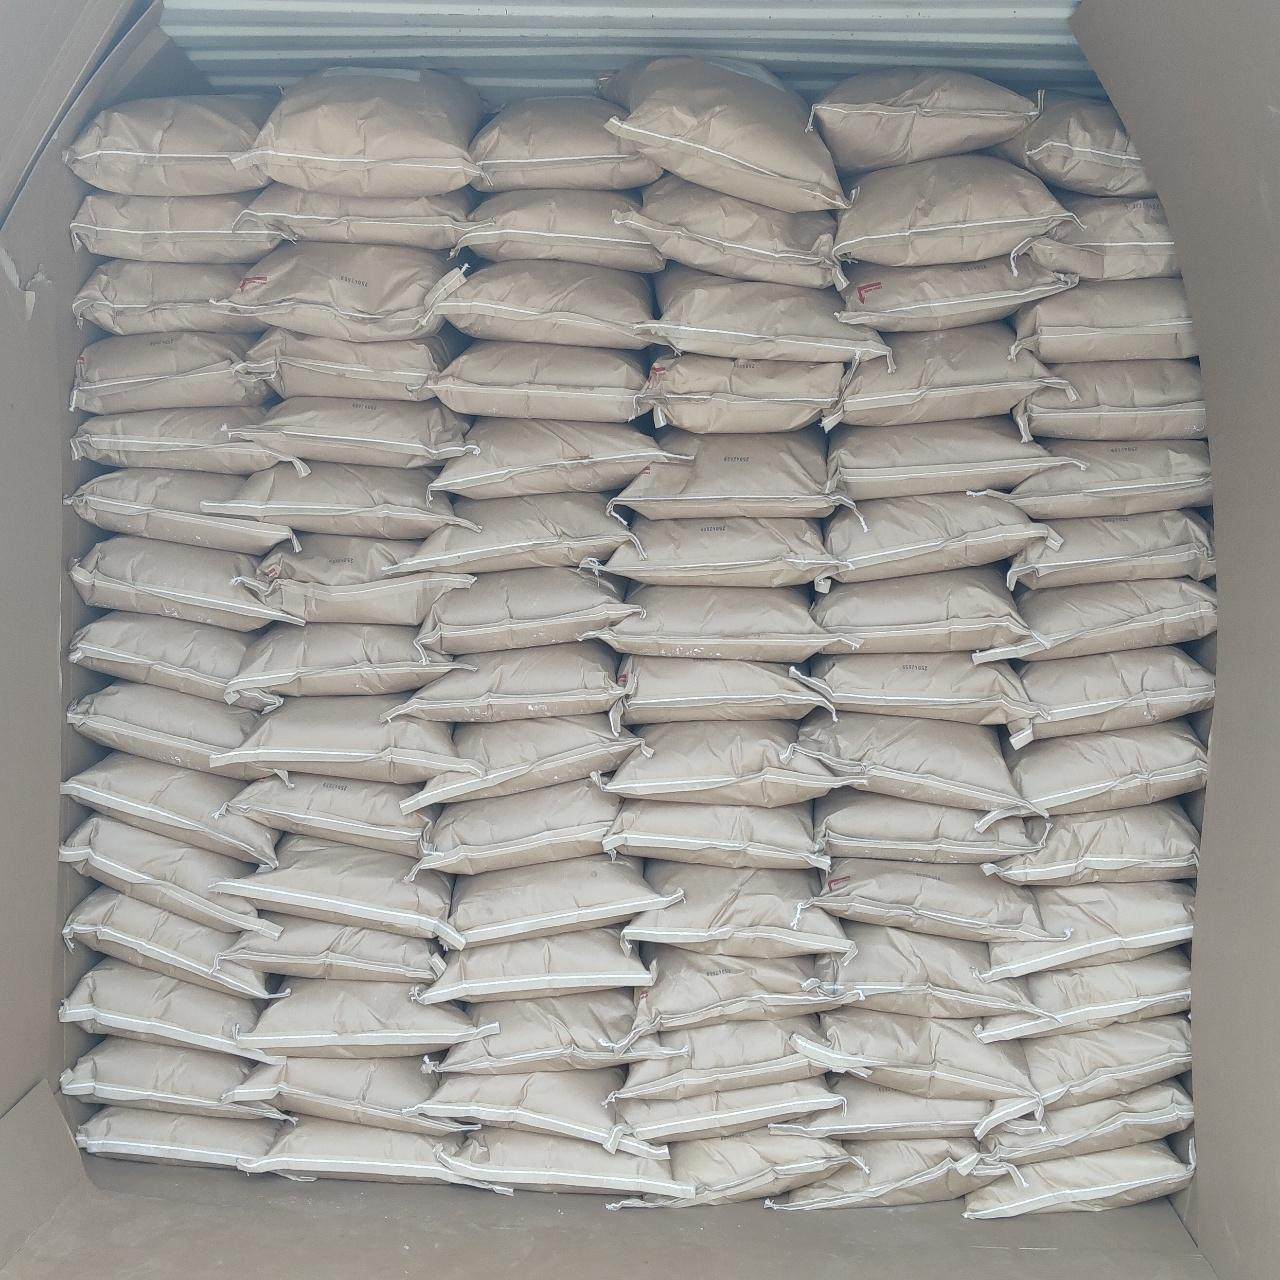sack: (602, 57, 846, 206), (234, 68, 488, 195), (62, 813, 278, 934), (787, 712, 1036, 813), (62, 753, 278, 869), (835, 156, 1068, 263), (618, 176, 842, 286), (642, 266, 890, 365), (64, 886, 282, 998), (220, 836, 456, 938), (230, 241, 467, 342), (60, 958, 280, 1062), (414, 1070, 666, 1160), (622, 948, 856, 1044), (810, 70, 1040, 168), (828, 324, 1054, 422), (406, 714, 646, 806), (68, 680, 286, 779), (804, 858, 1060, 942), (624, 862, 850, 956), (72, 536, 300, 629), (68, 612, 284, 710), (816, 1008, 1040, 1102), (445, 856, 678, 946), (236, 535, 474, 622), (992, 1016, 1190, 1122), (980, 881, 1192, 980), (608, 1016, 852, 1102), (1006, 646, 1214, 745), (824, 492, 1050, 583), (595, 722, 844, 804), (384, 493, 636, 574), (617, 430, 847, 518), (236, 694, 464, 782), (244, 1116, 508, 1192), (430, 992, 685, 1070), (816, 922, 1032, 1014), (66, 470, 298, 554), (826, 418, 1062, 501), (588, 586, 850, 660), (240, 978, 493, 1054), (433, 418, 688, 493), (66, 96, 270, 190), (610, 1130, 860, 1206), (62, 1036, 288, 1121), (430, 264, 656, 348), (813, 566, 1036, 652), (976, 949, 1190, 1039), (206, 462, 468, 535), (976, 580, 1214, 660), (1005, 720, 1206, 813), (972, 440, 1210, 518), (418, 778, 622, 870), (230, 1058, 474, 1133), (964, 1138, 1192, 1218), (982, 802, 1198, 886), (386, 642, 622, 719), (422, 568, 636, 652), (470, 96, 660, 190), (794, 652, 1034, 726), (416, 928, 654, 1002), (840, 256, 1074, 331), (224, 774, 438, 855), (768, 1138, 1012, 1208), (583, 516, 835, 584), (425, 342, 646, 420), (982, 1080, 1190, 1162), (988, 91, 1150, 196), (442, 1126, 686, 1196), (72, 332, 274, 414), (816, 788, 1039, 862), (1010, 512, 1214, 592), (640, 352, 846, 430), (229, 624, 458, 694), (234, 399, 468, 468), (72, 190, 290, 263), (456, 192, 660, 270), (1012, 278, 1194, 362), (72, 408, 308, 472), (222, 914, 444, 982), (241, 328, 456, 399), (612, 656, 830, 724), (606, 802, 824, 870), (1016, 360, 1204, 438), (612, 1078, 844, 1142), (772, 1074, 990, 1141), (240, 184, 472, 246), (1016, 195, 1178, 278), (74, 260, 252, 334), (76, 1107, 280, 1167)
